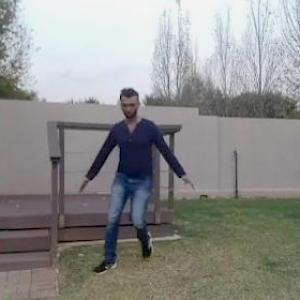land: (80, 84, 193, 278)
